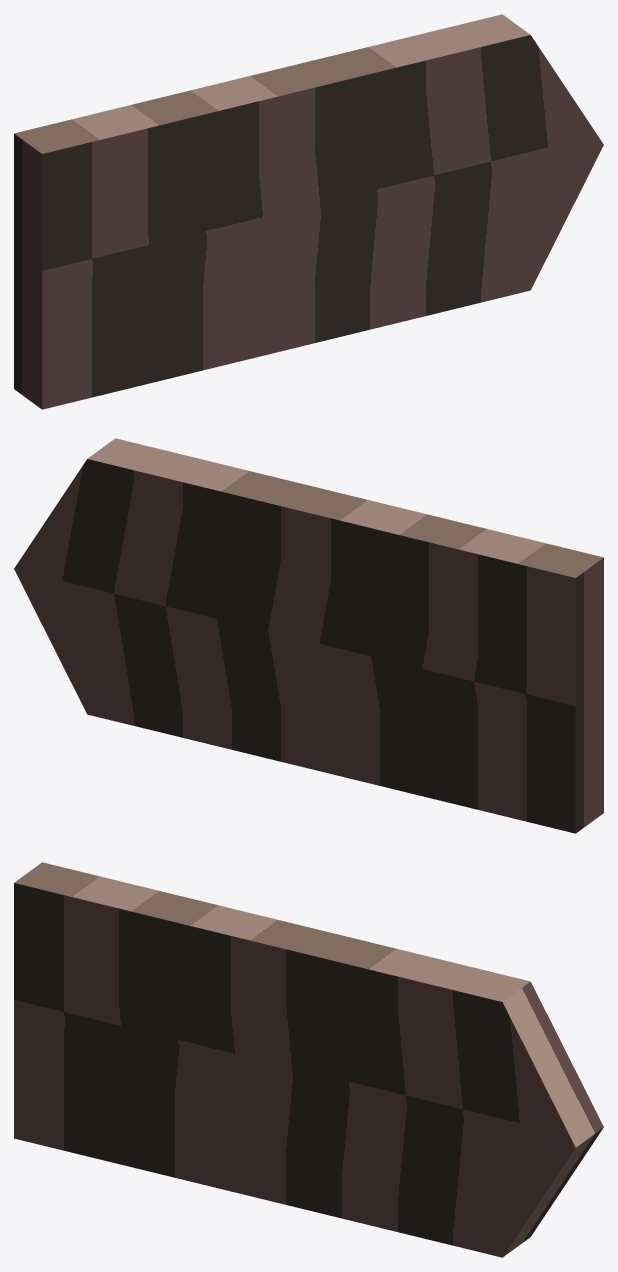
The model's file is sign_379x08.gltf.
3 renders of one model, top to bottom at view 1: azimuth 30°, elevation 25°; view 2: azimuth 150°, elevation 25°; view 3: azimuth 330°, elevation 25°, orthographic.
Visible parts, largest first — view 1: sign_379x08; view 2: sign_379x08; view 3: sign_379x08.
Boxes of the visible parts, x1=… form: sign_379x08: x1=14, y1=14, x2=603, y2=409; sign_379x08: x1=14, y1=438, x2=603, y2=833; sign_379x08: x1=14, y1=862, x2=603, y2=1257.
Size of the model in its own units: 1.15 by 0.5 by 0.1.
1 material, 1 textured.
